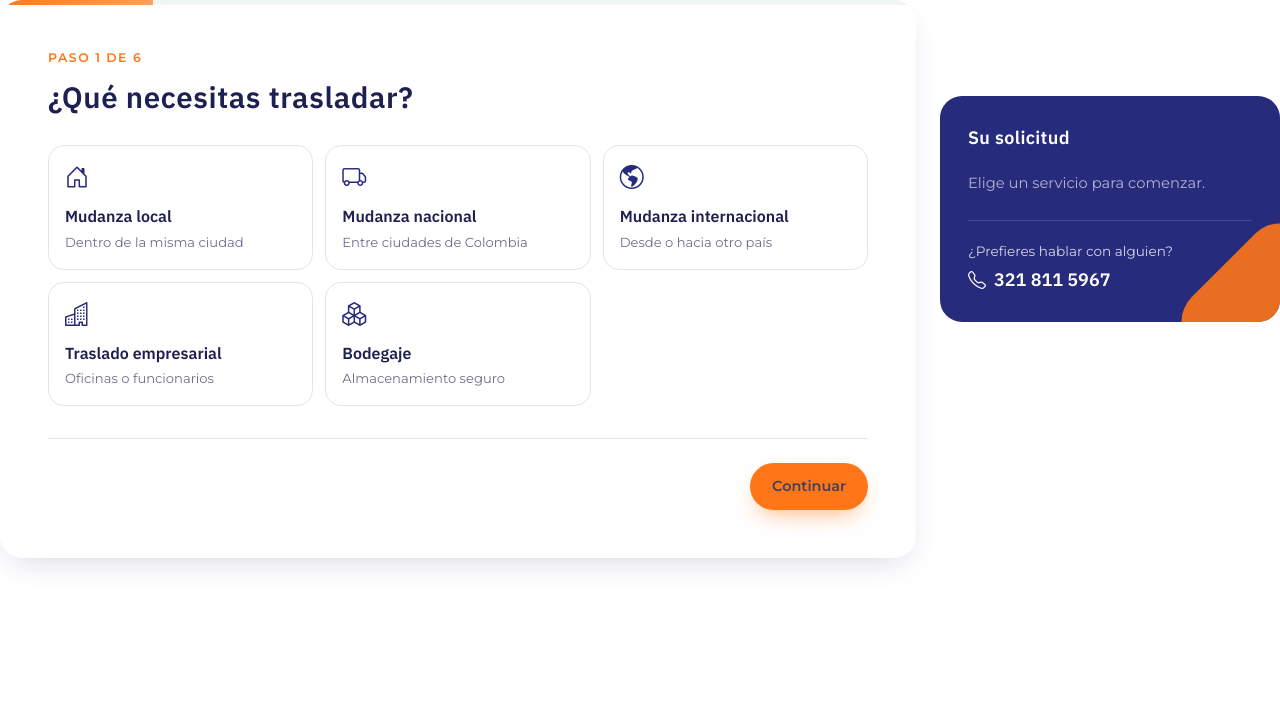
Cotizador › al elegir el servicio pasa al paso 2 con los campos de ese servicio
Click the button "Mudanza internacional Desde o hacia otro país". click: (735, 207)
box: [603,145,868,270]
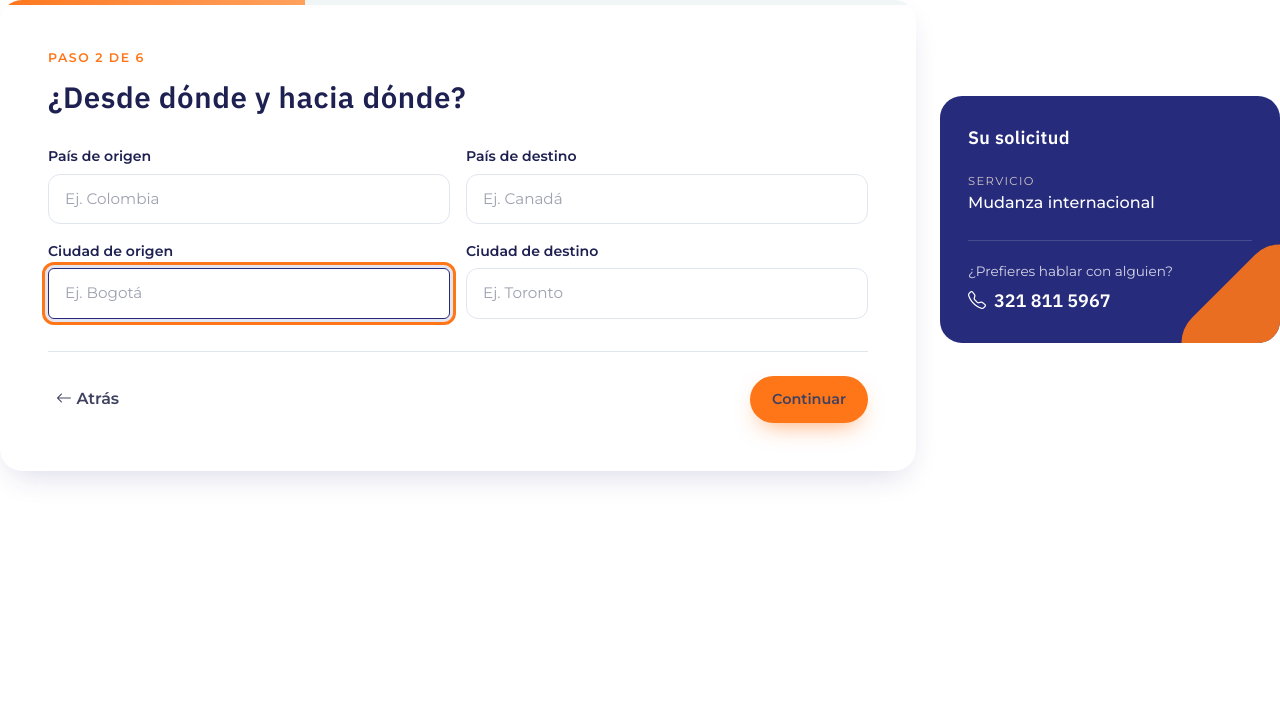
Check: the text "País de origen" is shown, box [48,147,151,165]
Check: the text "Paso 2 de 6" is shown, box [48,50,145,65]
